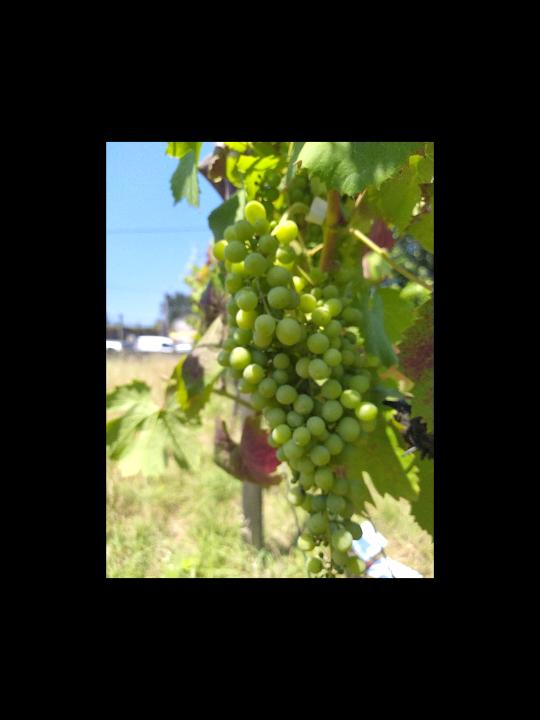grape: (210, 195, 380, 576)
